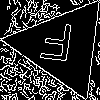F: (37, 21, 76, 71)
